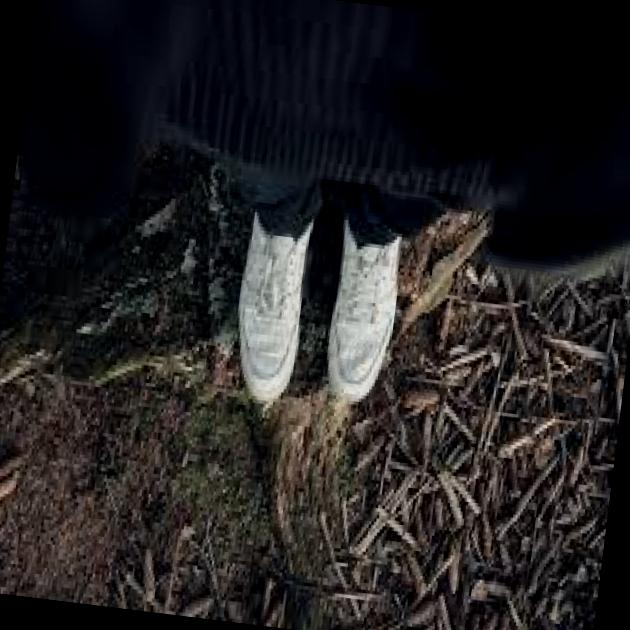shoes: (200, 167, 432, 443)
